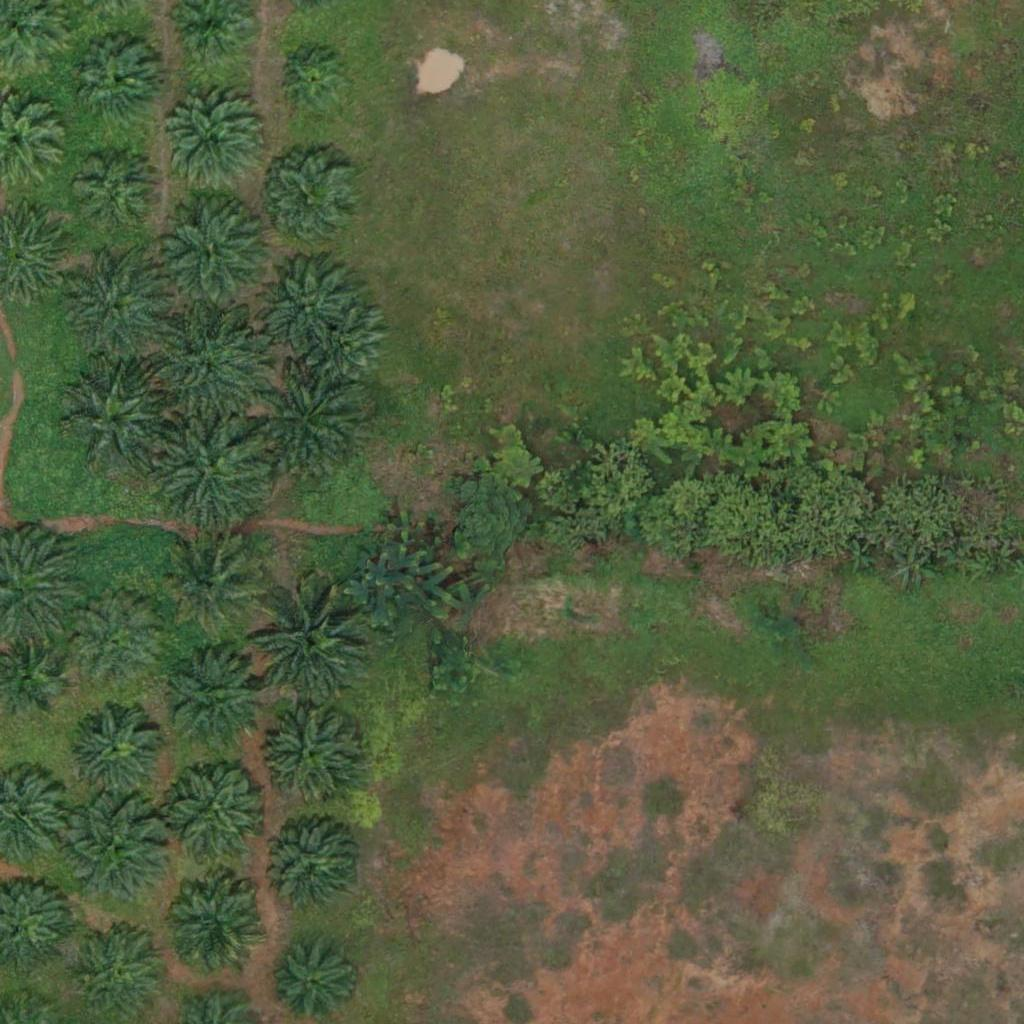Kelapa_Sawit: (158, 753, 271, 867), (56, 792, 169, 906), (158, 201, 271, 314), (151, 312, 264, 425), (253, 374, 366, 487), (256, 589, 368, 702), (60, 363, 172, 476), (156, 416, 268, 529), (161, 647, 273, 760), (166, 537, 266, 638), (165, 86, 265, 187), (66, 260, 166, 361), (260, 703, 360, 804), (73, 922, 173, 1023), (66, 590, 166, 690), (63, 702, 163, 802), (262, 817, 362, 917), (163, 877, 263, 977), (70, 150, 158, 239), (76, 35, 164, 123), (269, 156, 356, 244), (262, 263, 349, 351), (297, 303, 384, 391), (285, 49, 348, 112)
